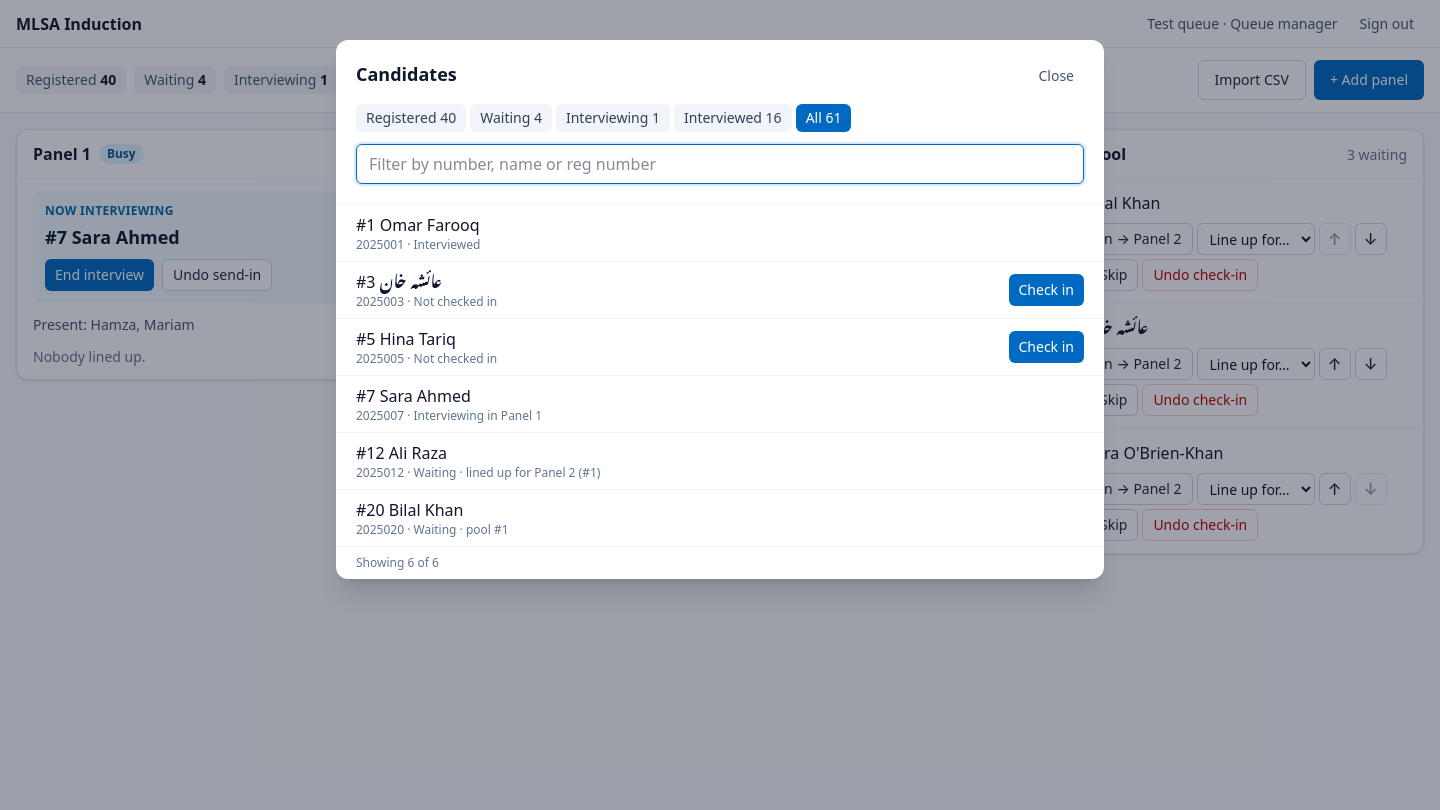
Test: candidate list › narrows the list with the filter box
Expected: the element "Panel 1" is shown, [16,129,496,380]
Type "khan" into the search field named "Filter candidates" at [720, 164], box [356,144,1084,184]
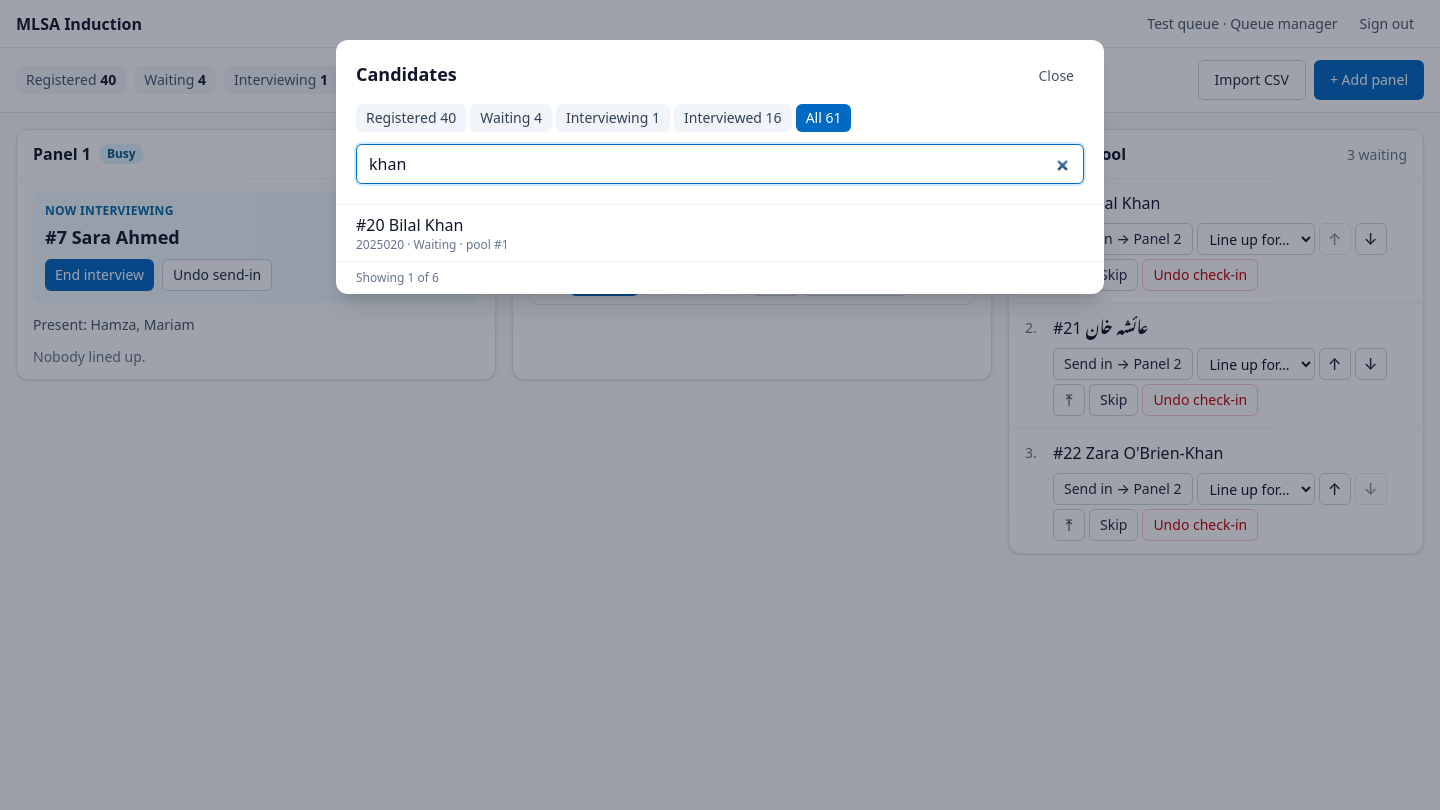
Replace the text in the search field named "Filter candidates" with "zzz" at [720, 164], box [356,144,1084,184]
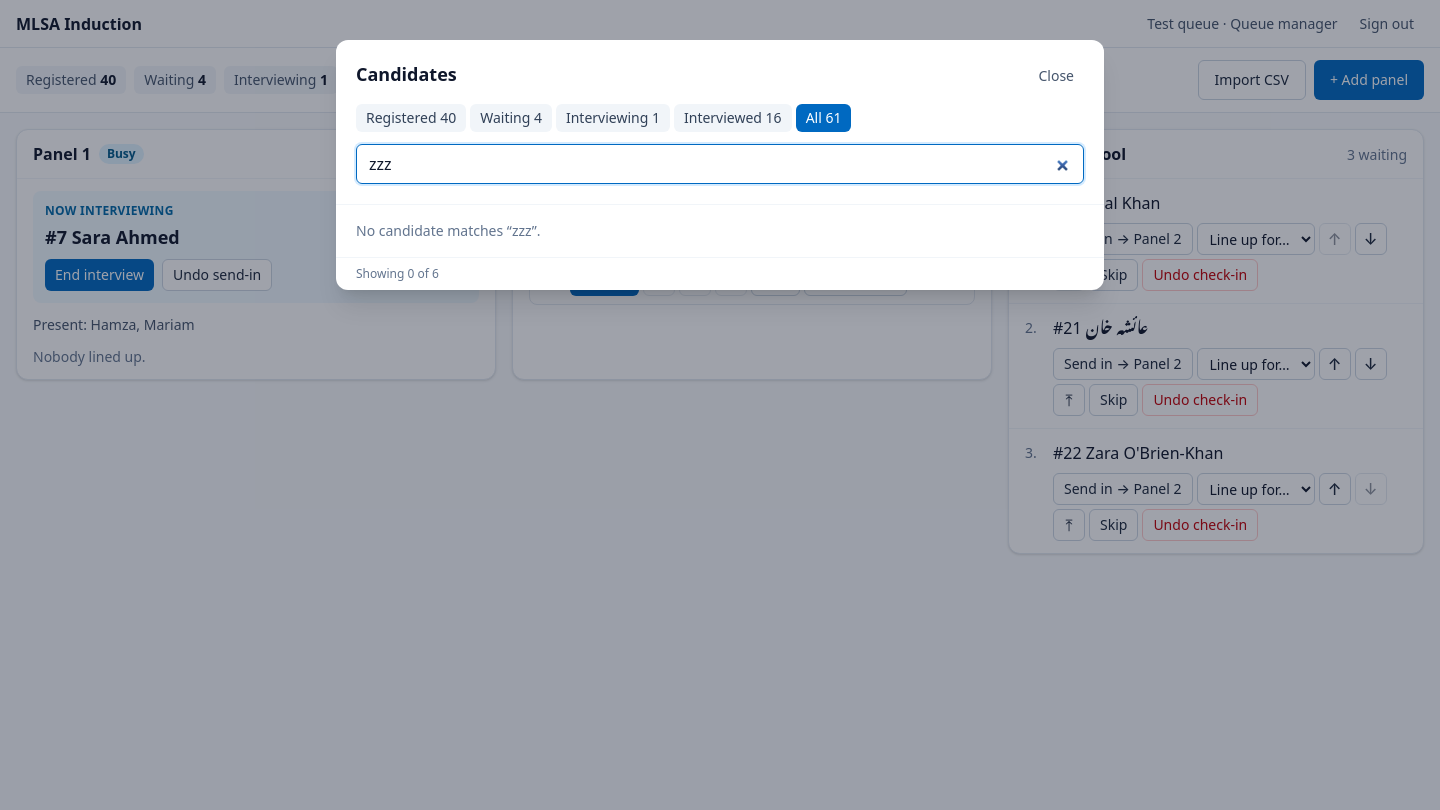
Expected: the text "No candidate matches “zzz”." is shown, [356,221,540,240]
